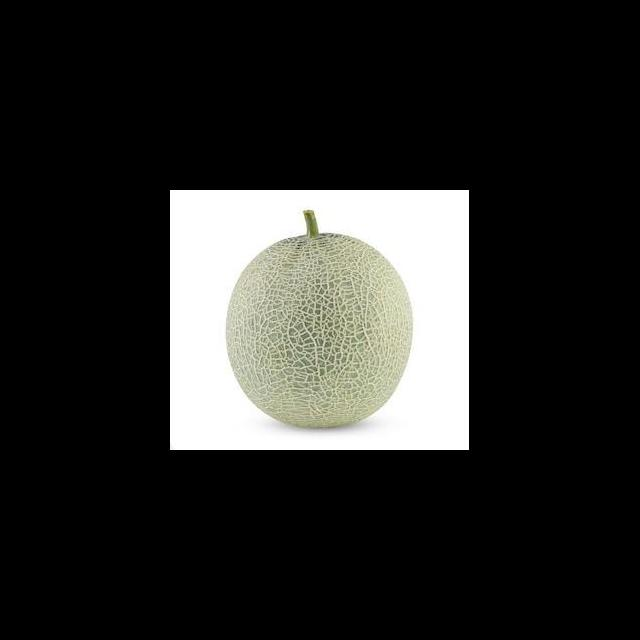Hami Melon: (226, 210, 413, 428)
